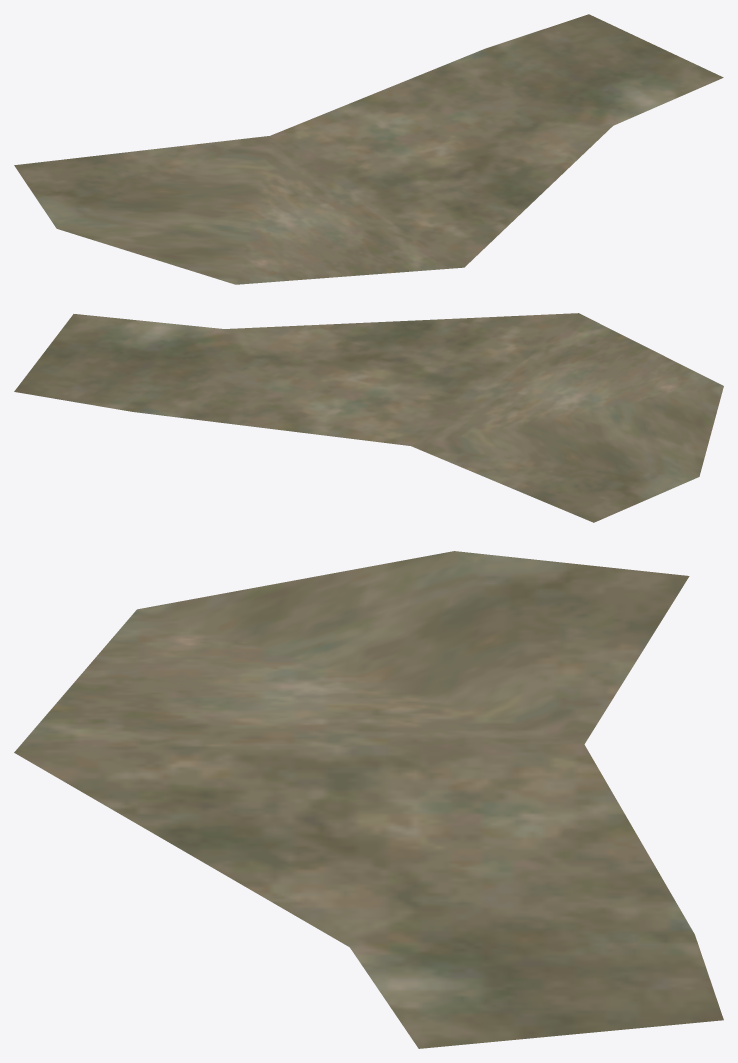
Rendered from OVERHILL_A_01_GROUND26.fbx.
The picture shows the model from 3 angles, top to bottom: view 1: azimuth 30°, elevation 25°; view 2: azimuth 150°, elevation 25°; view 3: azimuth 270°, elevation 25°; orthographic projection. The views are drawn at different scales.
Visible parts, largest first — view 1: OVERHILL_A_01_GROUND26; view 2: OVERHILL_A_01_GROUND26; view 3: OVERHILL_A_01_GROUND26.
Part boxes in pixels (x1,y1,x2,y2): OVERHILL_A_01_GROUND26: (14, 14, 723, 284); OVERHILL_A_01_GROUND26: (14, 313, 723, 522); OVERHILL_A_01_GROUND26: (14, 551, 723, 1048).
Size of the model in its own units: 21809 by 16.41 by 13163.
1 material, 1 textured.
